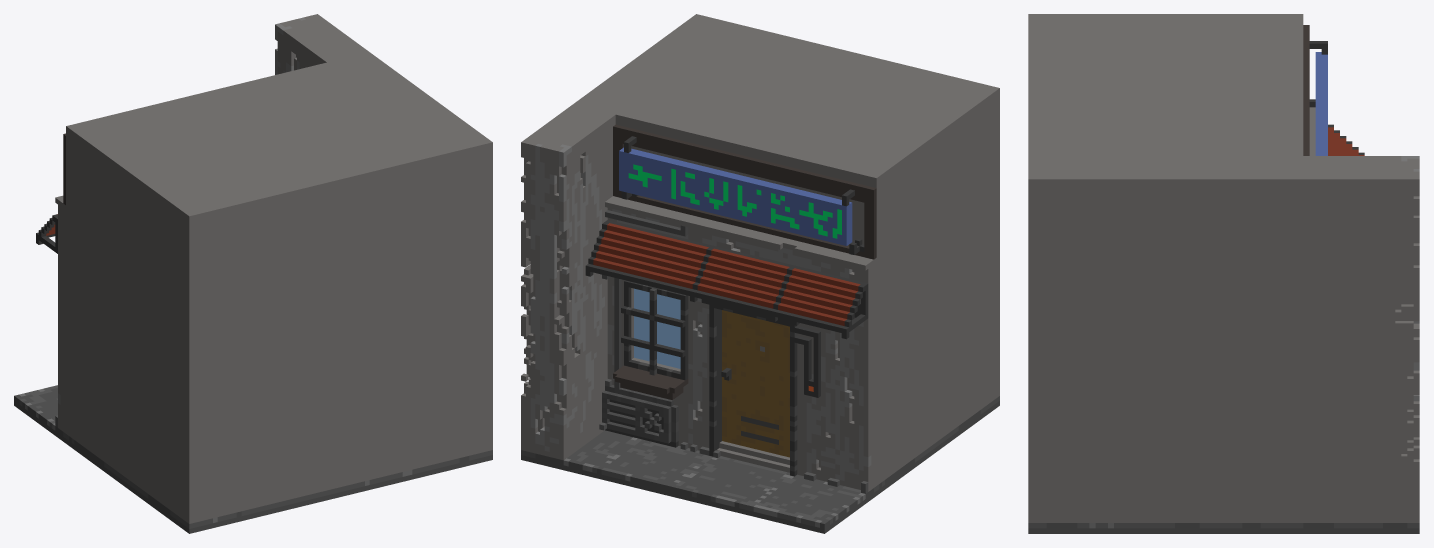
The model's file is MapV3-72.obj.
The picture shows the model from 3 angles, left to right: view 1: azimuth 30°, elevation 25°; view 2: azimuth 150°, elevation 25°; view 3: azimuth 270°, elevation 25°; orthographic projection. The views are drawn at different scales.
Size of the model in its own units: 6.4 by 6.4 by 6.4.
1 material, 1 textured.
